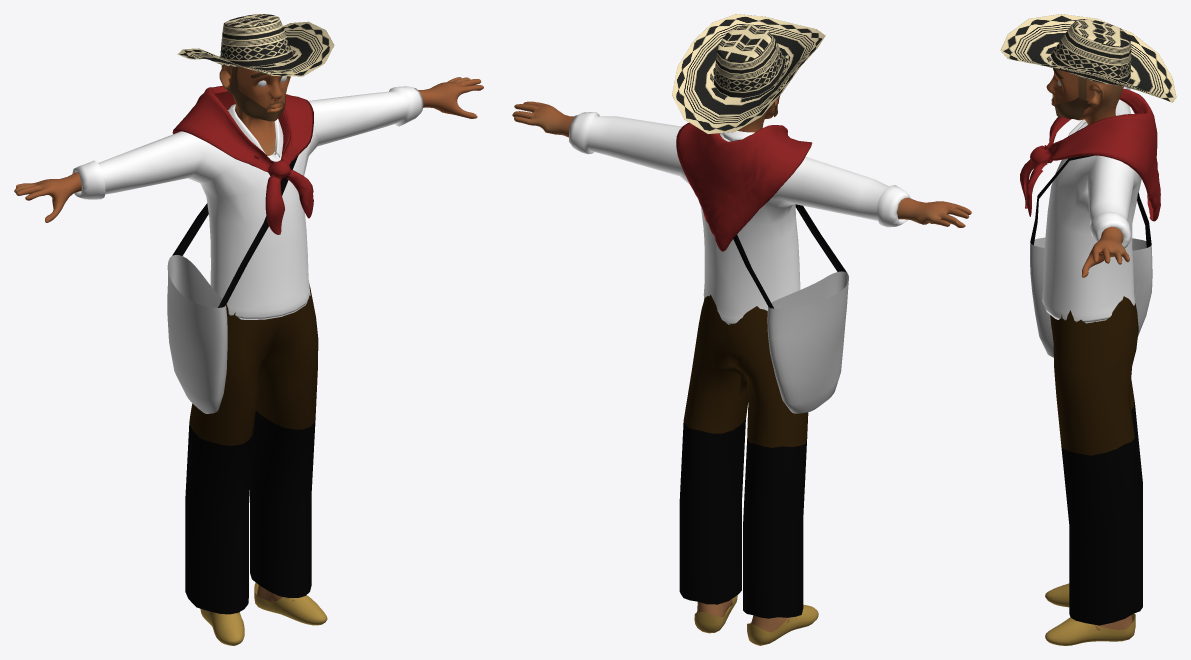
The model's file is Bailarín.fbx.
3 renders of one model, left to right at view 1: azimuth 30°, elevation 25°; view 2: azimuth 150°, elevation 25°; view 3: azimuth 270°, elevation 25°, orthographic. The views are drawn at different scales.
Visible parts, largest first — view 1: Extract3_3, Extract1_1, PM3D_Cylinder3D1, PM3D_Sphere3D1_5, pCylinder2, prensa_personaje_director6, prensa_personaje_director12, prensa_personaje_director11; view 2: Extract3_3, Extract1_1, pCylinder2, PM3D_Cylinder3D1, PM3D_Sphere3D1_5, prensa_personaje_director6, prensa_personaje_director12; view 3: Extract3_3, Extract1_1, pCylinder2, PM3D_Sphere3D1_5, PM3D_Cylinder3D1, prensa_personaje_director6, prensa_personaje_director12, prensa_personaje_director11.
Boxes of the visible parts, bbox=[...] form: Extract3_3: bbox=[185, 283, 318, 614]; Extract1_1: bbox=[72, 86, 423, 319]; PM3D_Cylinder3D1: bbox=[167, 156, 297, 413]; PM3D_Sphere3D1_5: bbox=[172, 85, 313, 234]; pCylinder2: bbox=[177, 14, 334, 76]; prensa_personaje_director6: bbox=[14, 65, 483, 615]; prensa_personaje_director12: bbox=[200, 582, 327, 645]; prensa_personaje_director11: bbox=[227, 66, 285, 121]; Extract3_3: bbox=[679, 295, 808, 618]; Extract1_1: bbox=[569, 112, 910, 324]; pCylinder2: bbox=[672, 14, 825, 134]; PM3D_Cylinder3D1: bbox=[733, 204, 848, 413]; PM3D_Sphere3D1_5: bbox=[676, 122, 812, 251]; prensa_personaje_director6: bbox=[512, 96, 971, 644]; prensa_personaje_director12: bbox=[694, 595, 818, 645]; Extract3_3: bbox=[1050, 296, 1142, 625]; Extract1_1: bbox=[1042, 86, 1141, 323]; pCylinder2: bbox=[1000, 14, 1176, 102]; PM3D_Sphere3D1_5: bbox=[1020, 88, 1160, 221]; PM3D_Cylinder3D1: bbox=[1030, 155, 1152, 357]; prensa_personaje_director6: bbox=[1046, 69, 1132, 630]; prensa_personaje_director12: bbox=[1045, 583, 1135, 645]; prensa_personaje_director11: bbox=[1052, 76, 1092, 119].
Bounding box in the file's own units: 12.63 × 15.81 × 4.19.
